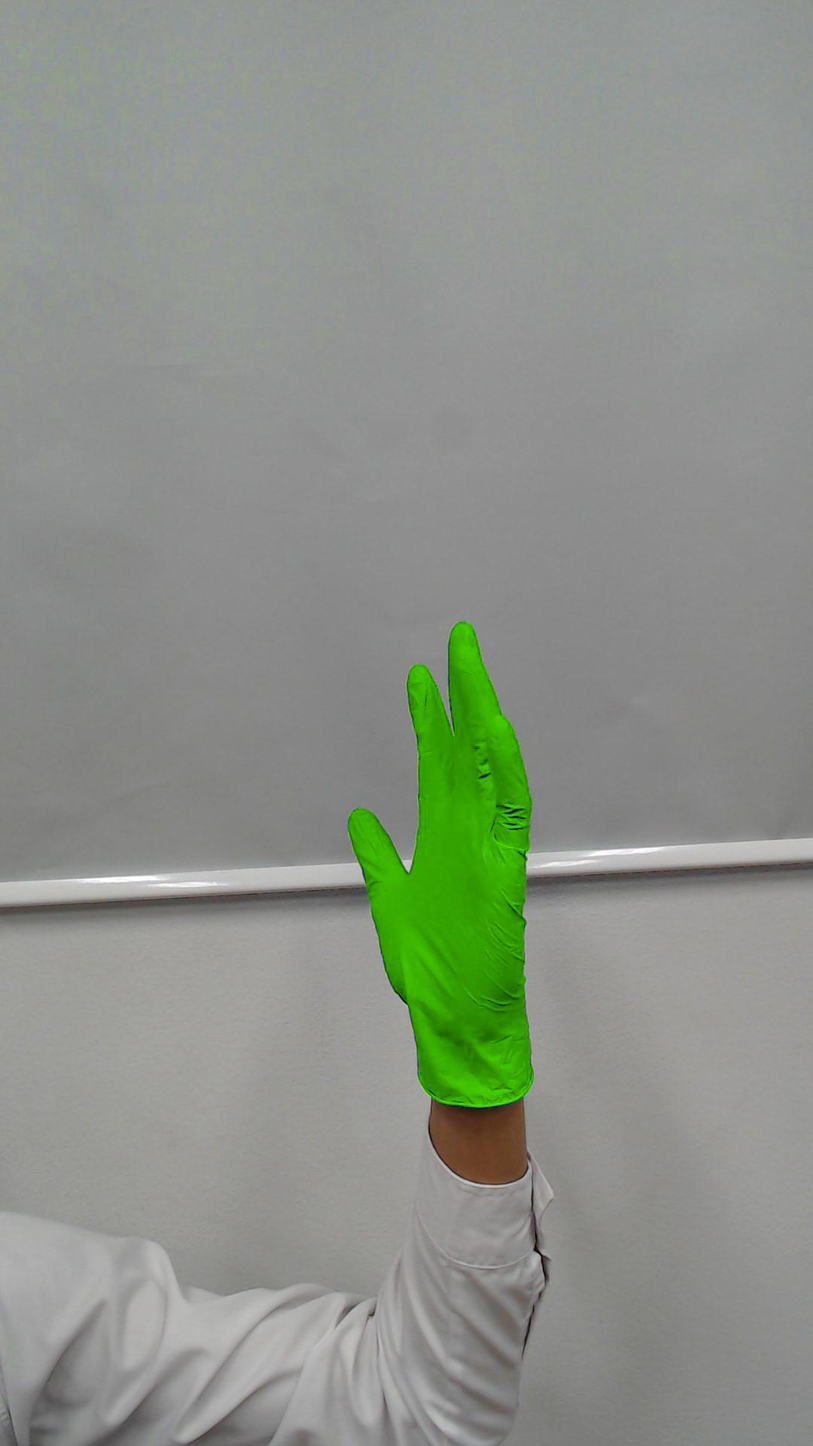gloves: (336, 610, 543, 1036)
